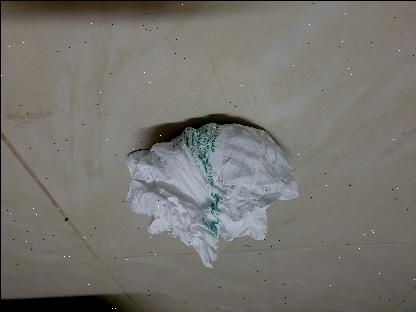Others: (120, 114, 304, 274)
